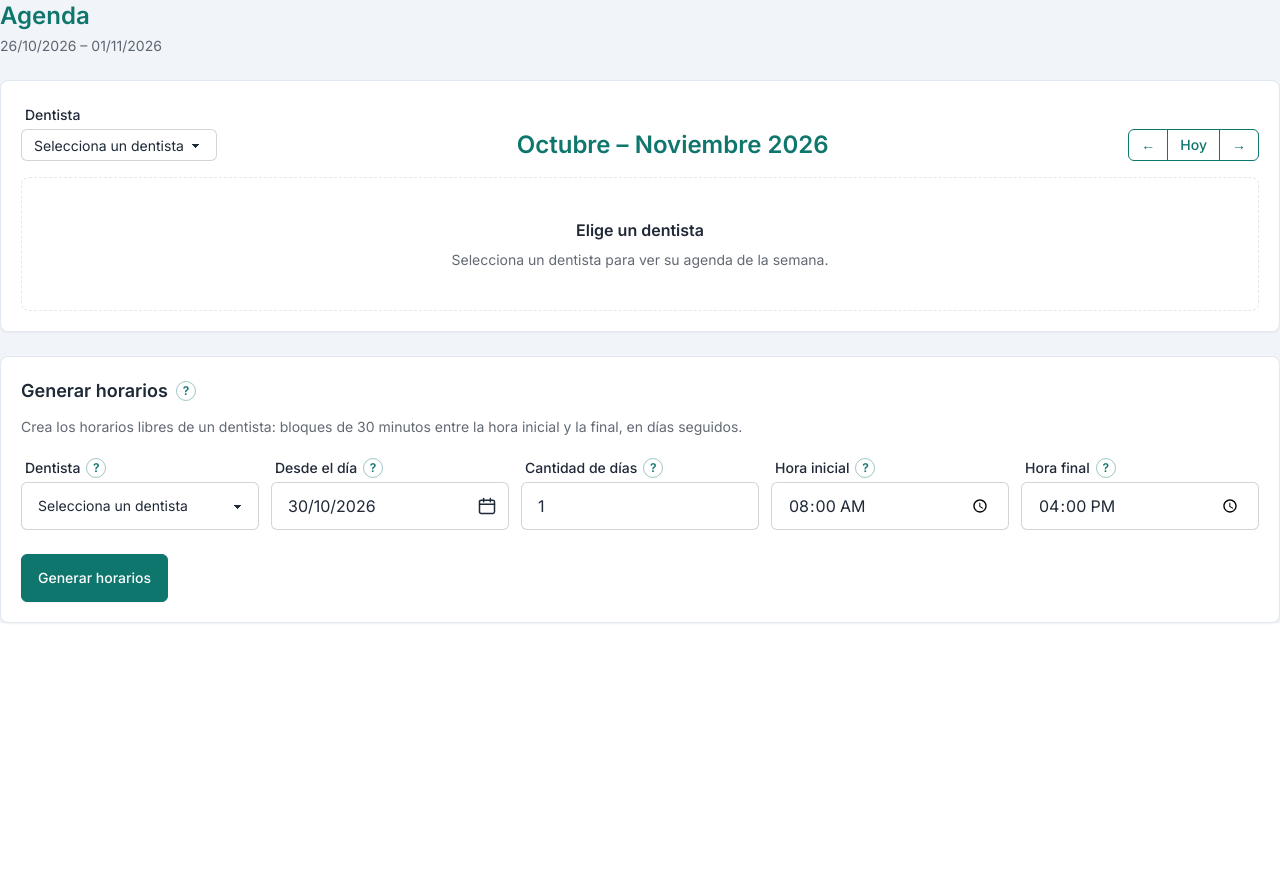
Agenda semanal › oculta el sábado y el domingo cuando no tienen horarios
The width and height of the screenshot is (1280, 889).
Select "Ana Pérez" in the 1st dropdown labelled "Dentista" at (119, 145), box [21,129,217,161]
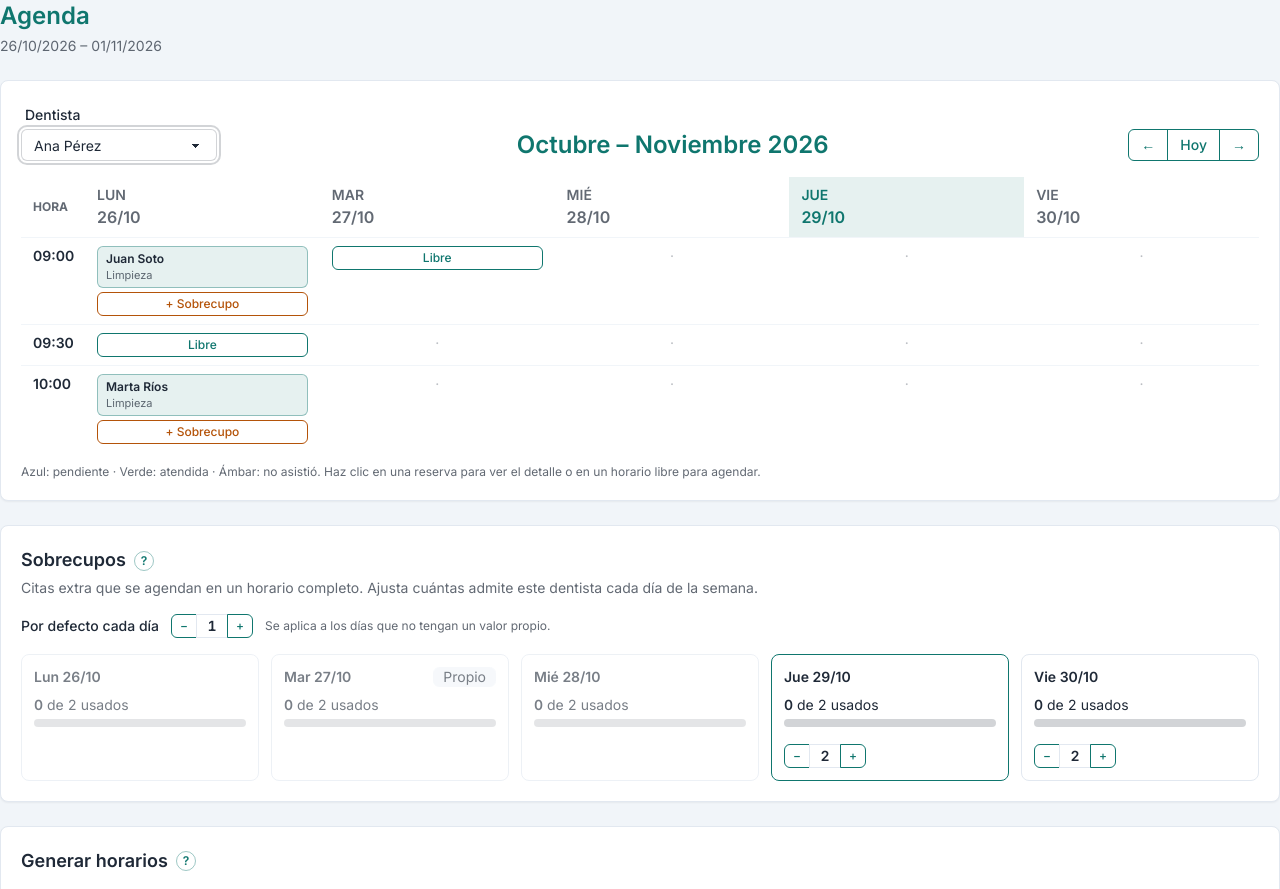
Expected: the button with aria-label "Reserva de Juan Soto" is shown, [97,246,308,288]
